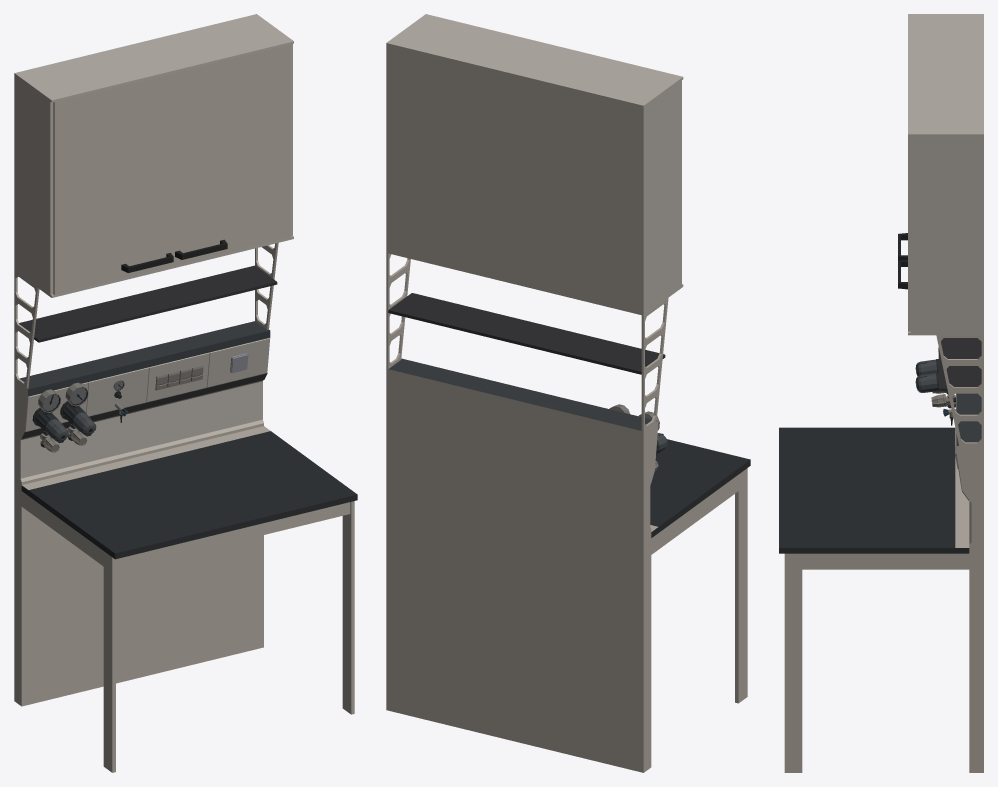
Rendered from SM_Table_05.gltf.
3 renders of one model, left to right at view 1: azimuth 30°, elevation 25°; view 2: azimuth 150°, elevation 25°; view 3: azimuth 270°, elevation 25°, orthographic. The views are drawn at different scales.
Parts seen in each view (by area): view 1: SM_Table_05, SM_Door_For_Table_01.001, SM_Door_For_Table_02; view 2: SM_Table_05; view 3: SM_Table_05, SM_Door_For_Table_02.
Boxes of the visible parts, x1=… form: SM_Table_05: x1=14, y1=14, x2=357, y2=772; SM_Door_For_Table_01.001: x1=53, y1=73, x2=173, y2=294; SM_Door_For_Table_02: x1=173, y1=44, x2=291, y2=265; SM_Table_05: x1=386, y1=14, x2=750, y2=772; SM_Table_05: x1=779, y1=14, x2=983, y2=772; SM_Door_For_Table_02: x1=898, y1=136, x2=910, y2=331.
Size of the model in its own units: 1 by 2.48 by 0.7198.
